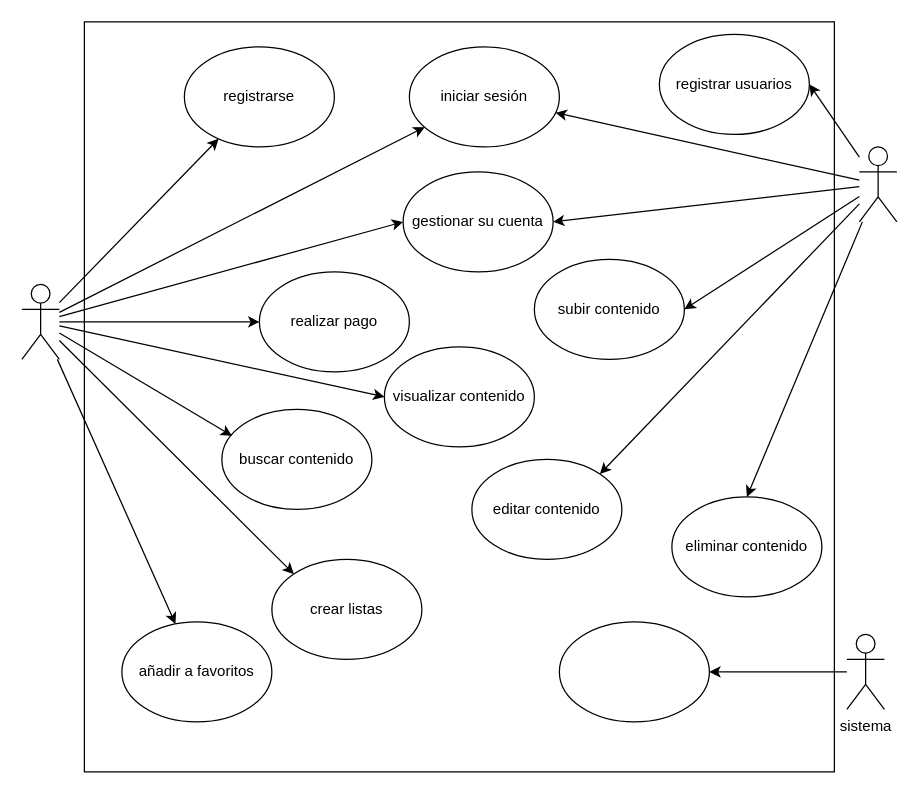
Some shapes in this 920 by 794 pixel diagram are drawn without their labels. Each missing label, with the centre of its shape:
admin: the point at 877,184
genera recomedaciones: the point at 633,671
user: the point at 40,321
